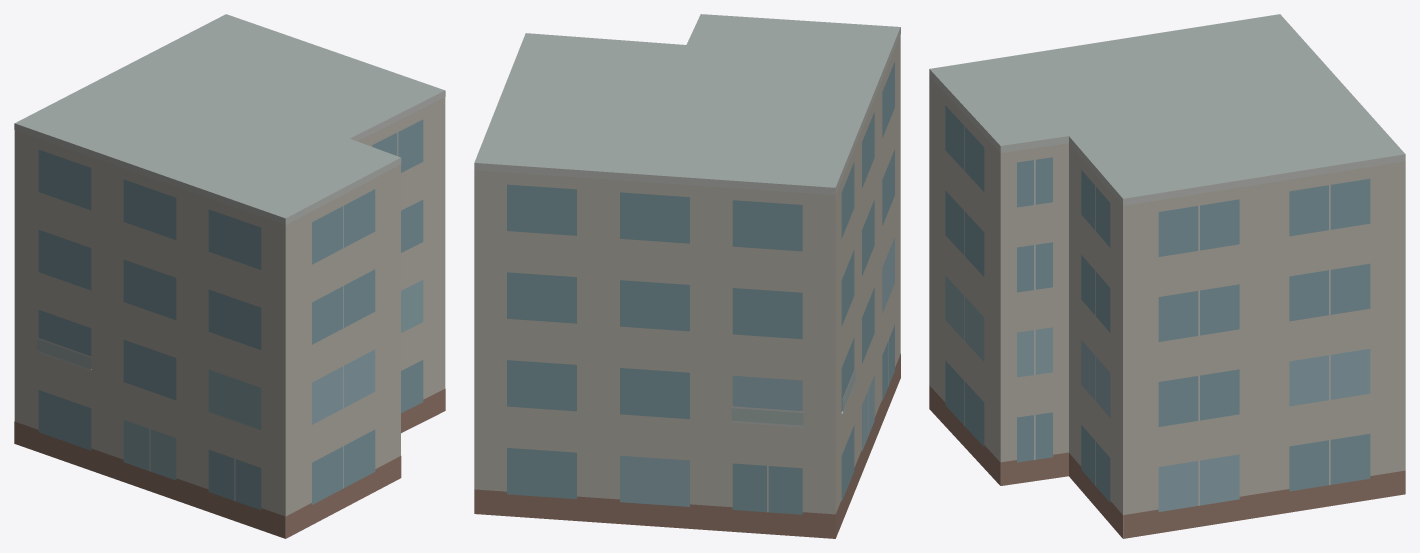
Rendered from survey-upis-32857411.glb.
3 views of the same model, side by side, from view 1: azimuth 30°, elevation 25°; view 2: azimuth 150°, elevation 25°; view 3: azimuth 270°, elevation 25° (orthographic). The views are drawn at different scales.
Visible parts, largest first — view 1: survey-upis-32857411.tmp; view 2: survey-upis-32857411.tmp; view 3: survey-upis-32857411.tmp.
Part boxes in pixels (x1,y1,x2,y2): survey-upis-32857411.tmp: (14, 14, 445, 538); survey-upis-32857411.tmp: (474, 14, 900, 538); survey-upis-32857411.tmp: (929, 14, 1405, 538).
Bounding box in the file's own units: 13.7 × 11.75 × 14.92.
